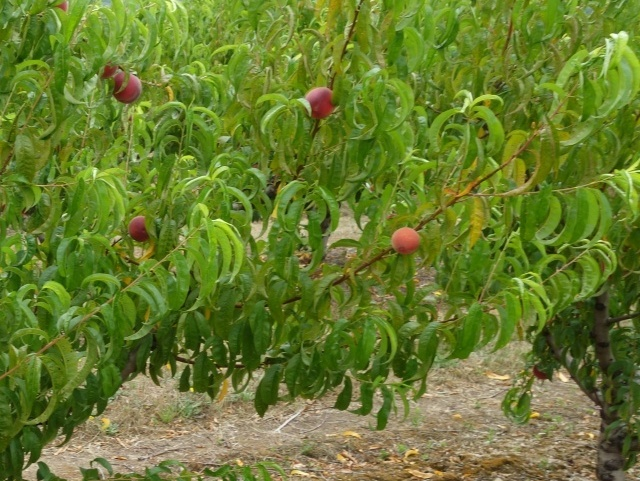peach: (300, 81, 341, 122), (109, 70, 147, 108), (388, 224, 425, 257), (123, 214, 155, 246), (530, 361, 551, 385)
